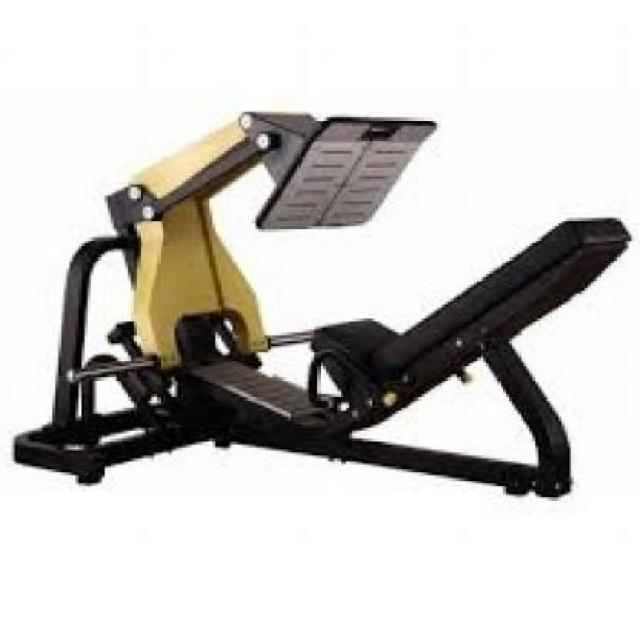leg press: (0, 77, 637, 511)
